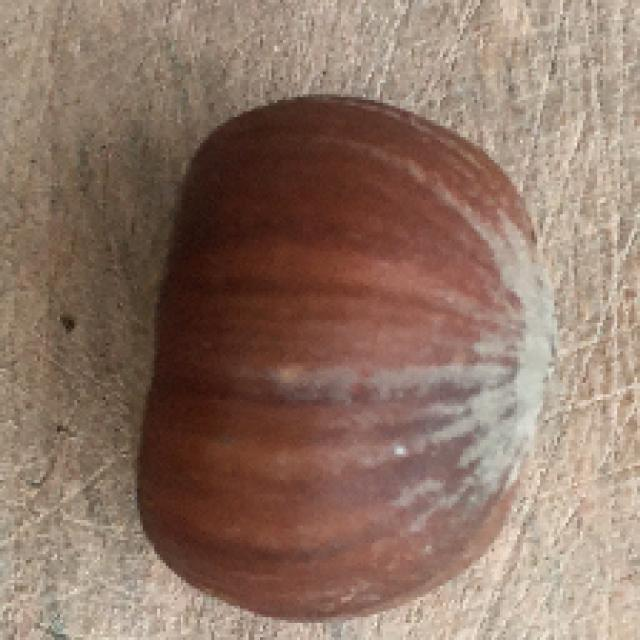qualityHazelnut: (123, 86, 556, 631)
